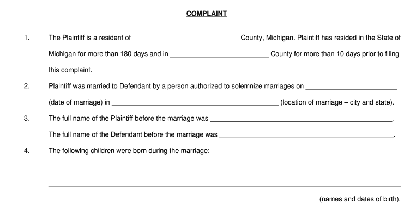textline: (47, 162, 402, 173), (47, 177, 402, 188), (46, 194, 319, 204), (208, 113, 394, 123), (110, 96, 279, 107), (218, 130, 395, 140), (304, 81, 398, 92), (169, 50, 270, 59), (132, 34, 240, 42)
